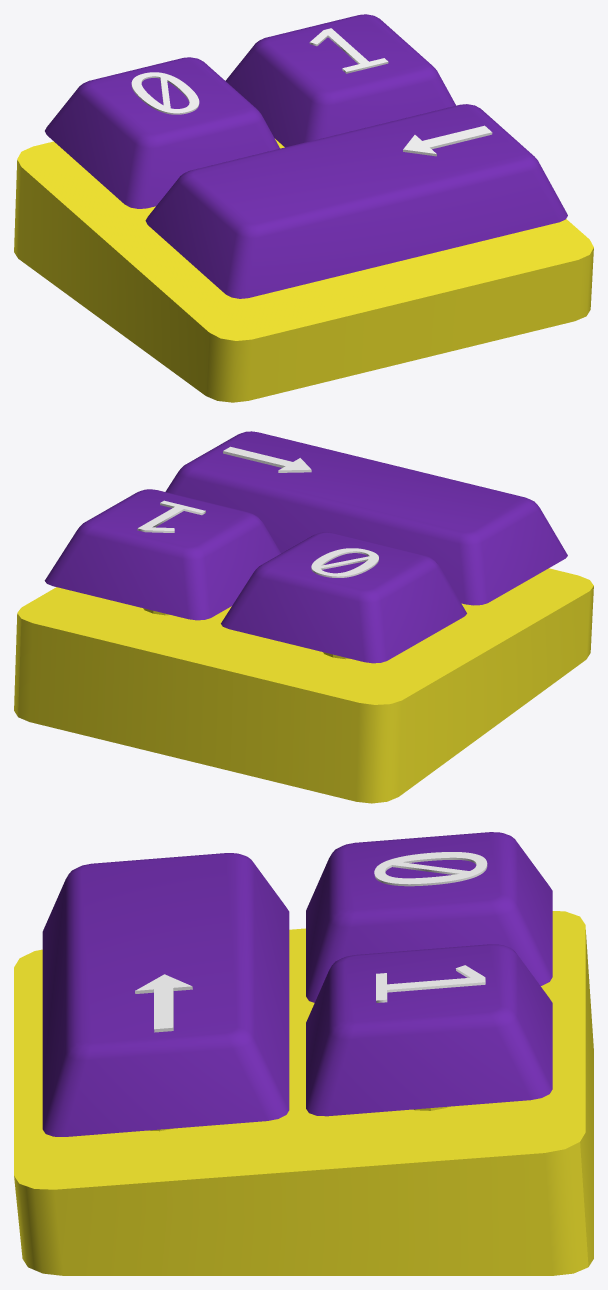
The model's file is keyboard.glb.
3 views of the same model, one above another, from view 1: azimuth 30°, elevation 25°; view 2: azimuth 150°, elevation 25°; view 3: azimuth 270°, elevation 25° (orthographic). The views are drawn at different scales.
Parts seen in each view (by area): view 1: Planch, keyEnter, key0, key1, 0, Enter, 1; view 2: Planch, keyEnter, key0, key1, 0, Enter, 1; view 3: Planch, keyEnter, key1, key0, 0, Enter, 1.
Part boxes in pixels (bbox=[...]): Planch: bbox=[14, 139, 593, 402]; keyEnter: bbox=[145, 104, 567, 298]; key0: bbox=[45, 57, 279, 208]; key1: bbox=[225, 14, 455, 147]; 0: bbox=[131, 72, 199, 114]; Enter: bbox=[403, 125, 492, 156]; 1: bbox=[309, 28, 388, 73]; Planch: bbox=[14, 568, 593, 803]; keyEnter: bbox=[165, 431, 567, 605]; key0: bbox=[221, 532, 466, 663]; key1: bbox=[44, 489, 280, 620]; 0: bbox=[311, 548, 378, 577]; Enter: bbox=[223, 446, 311, 472]; 1: bbox=[137, 500, 205, 532]; Planch: bbox=[14, 911, 593, 1275]; keyEnter: bbox=[42, 853, 289, 1136]; key1: bbox=[306, 944, 552, 1116]; key0: bbox=[306, 832, 552, 1002]; 0: bbox=[374, 852, 487, 886]; Enter: bbox=[135, 974, 192, 1032]; 1: bbox=[376, 965, 485, 1002].
Size of the model in its own units: 2.12 by 0.9541 by 2.14.
